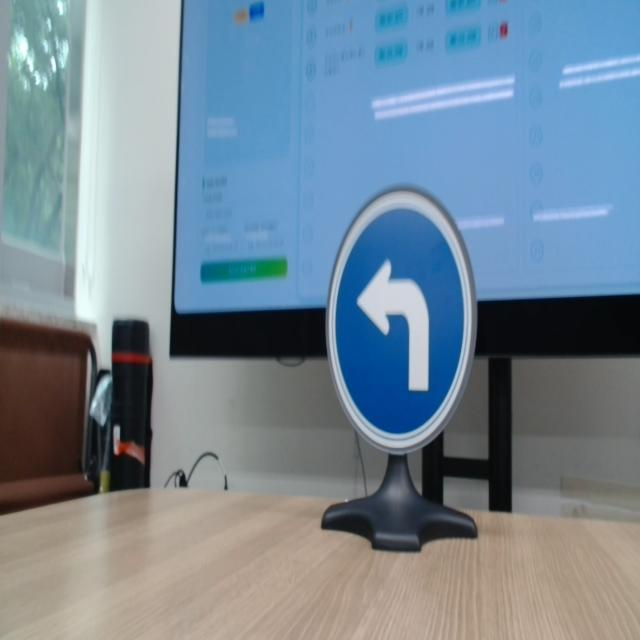left_direction: (317, 172, 498, 468)
